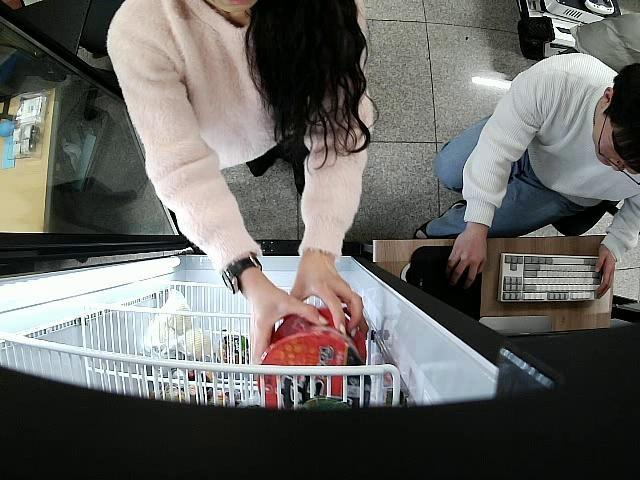01_ShinRamen_L: (258, 339, 370, 414), (276, 305, 364, 355)
